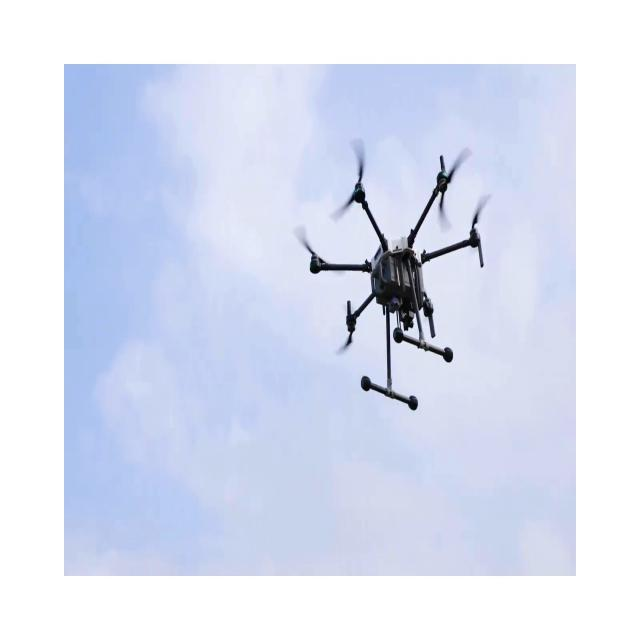drone: (293, 137, 492, 411)
